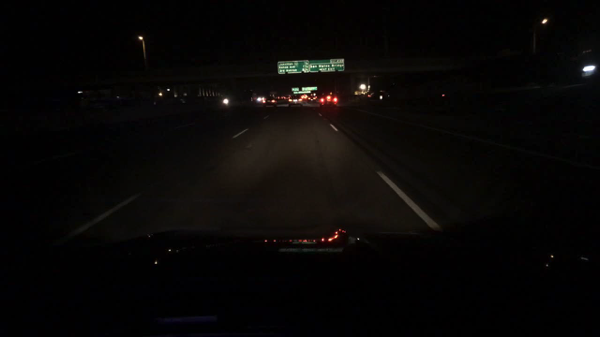car: (366, 89, 390, 103), (319, 94, 337, 107), (286, 96, 303, 107), (262, 97, 277, 108), (264, 96, 280, 104), (255, 95, 264, 104), (307, 96, 317, 103), (300, 94, 310, 100), (276, 96, 283, 101)
traffic sign: (308, 59, 345, 72), (276, 59, 308, 74), (301, 87, 317, 91), (290, 88, 299, 92), (294, 92, 311, 94)
